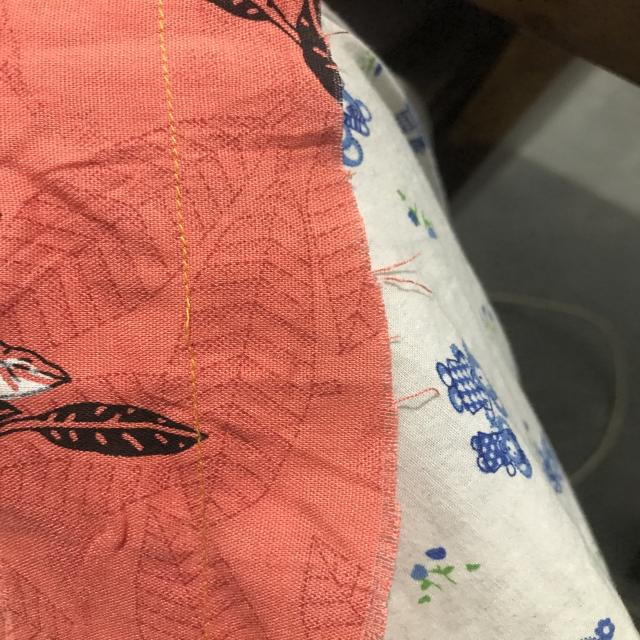good: (159, 136, 190, 248)
skip: (148, 280, 204, 354)
